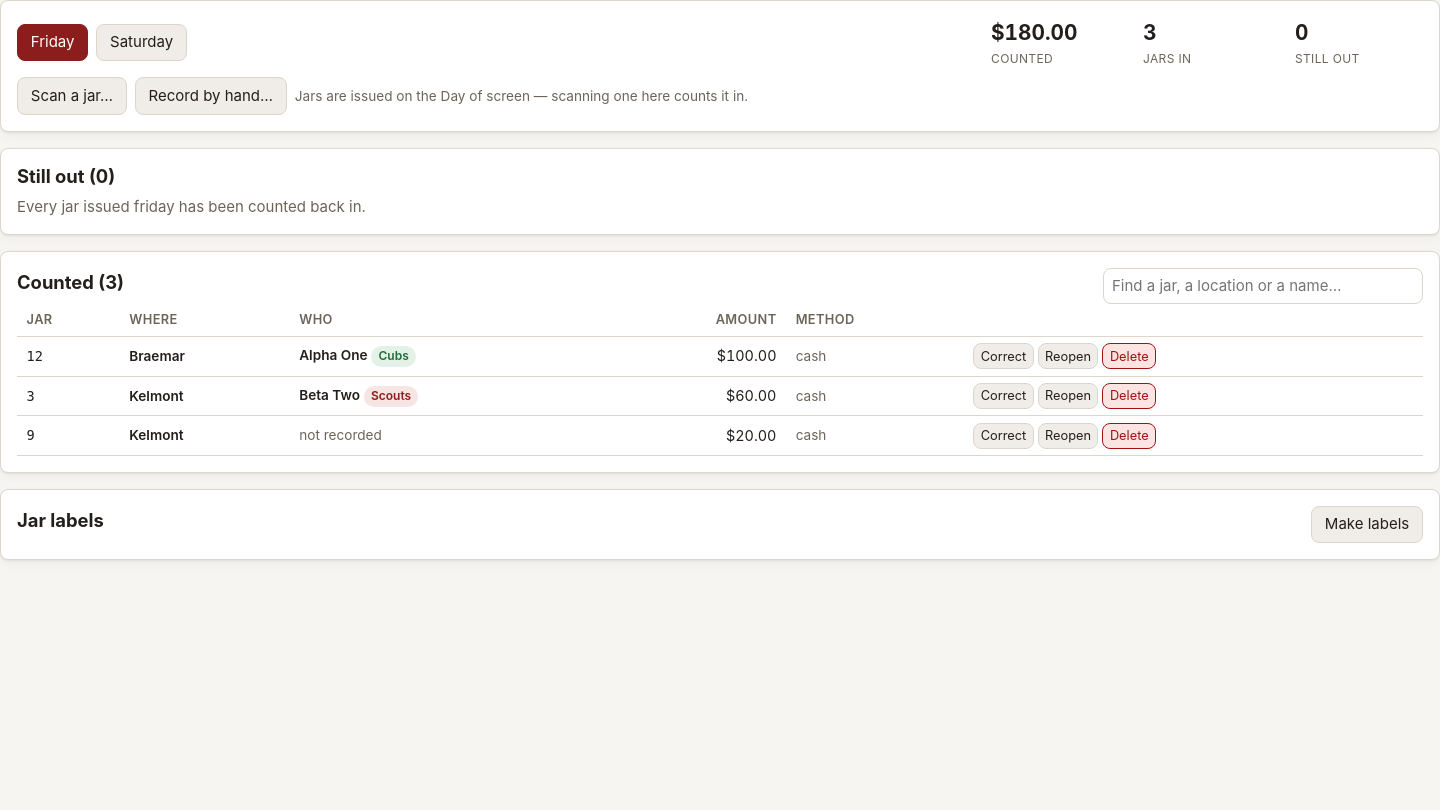
Test: the counted list › says how many of how many are showing
The image size is (1440, 810).
In the field named "Search counted jars": (1263, 286) [1103,268,1423,304], type "kelmont"
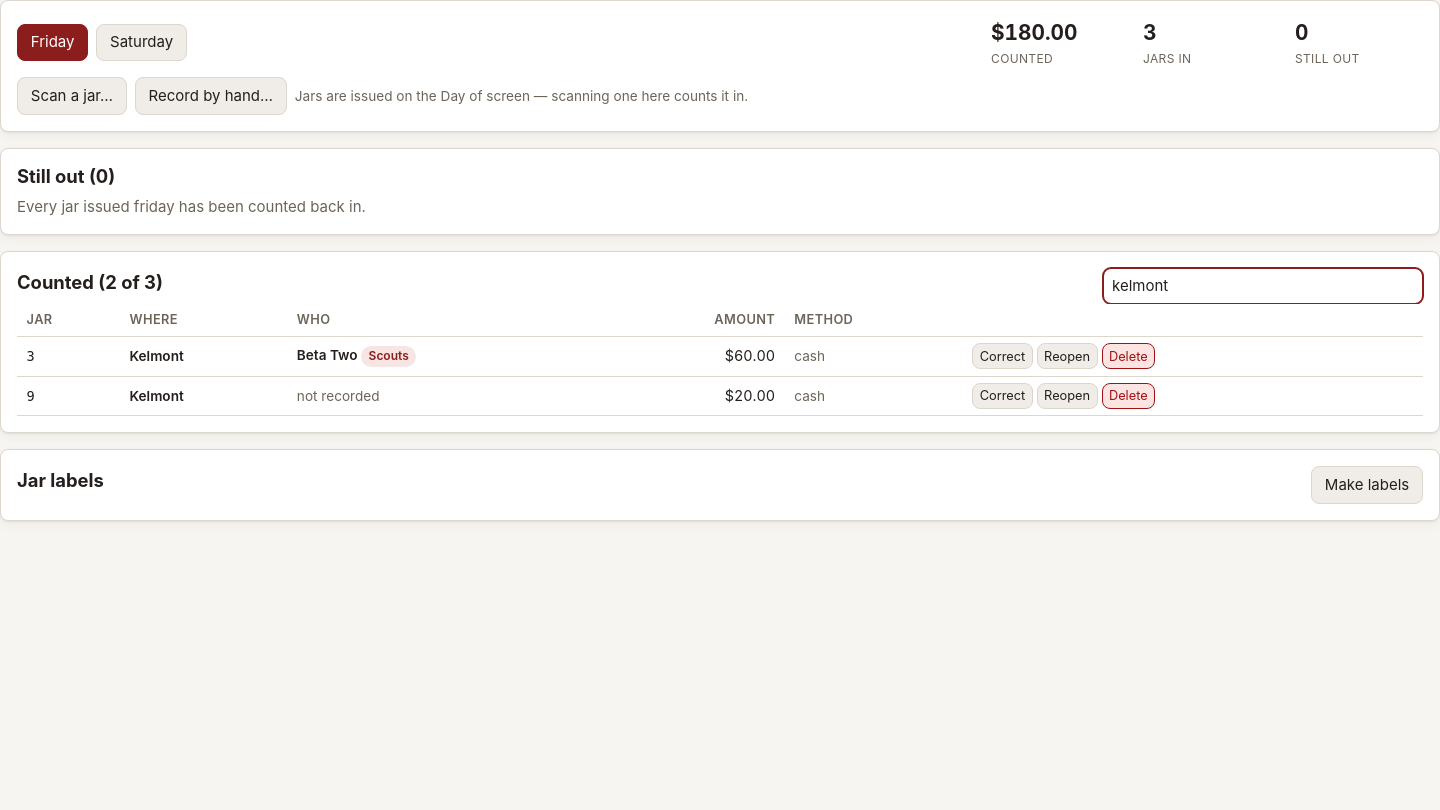
Expected: the heading "Counted (2 of 3)" is shown, [17,270,163,294]
